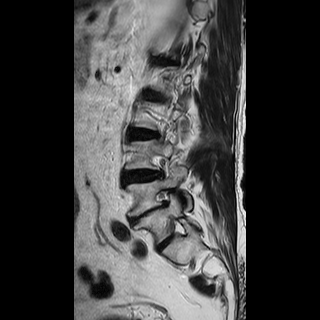LFS0: (149, 183, 177, 215), (146, 151, 174, 183)
